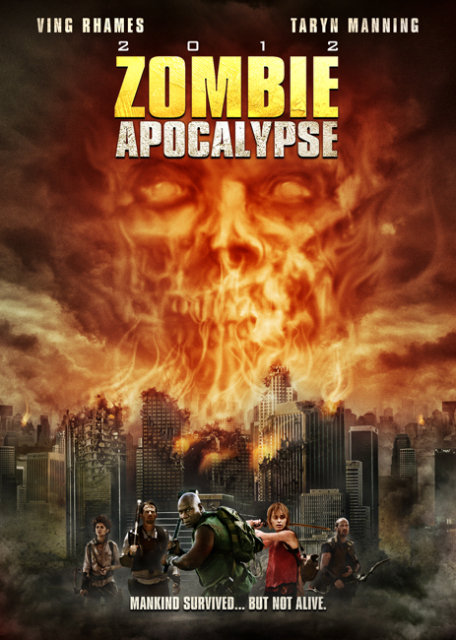human: (255, 503, 305, 596), (307, 517, 361, 593)
